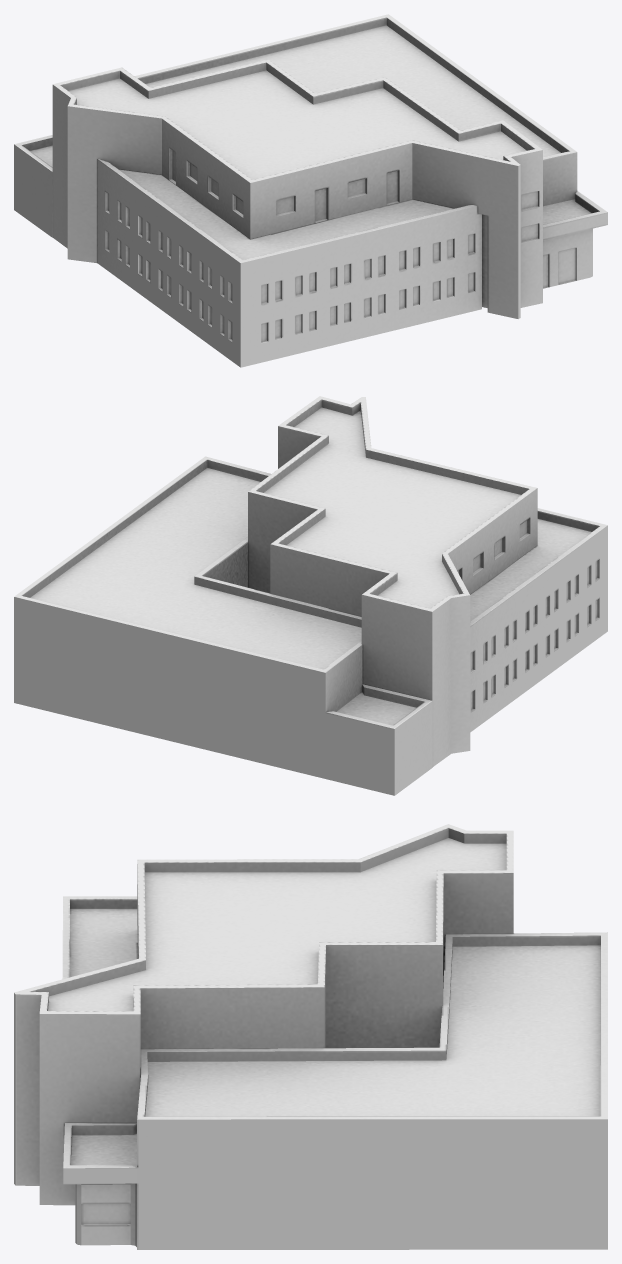
Rendered from kavala_building04.glb.
3 views of the same model, one above another, from view 1: azimuth 30°, elevation 25°; view 2: azimuth 150°, elevation 25°; view 3: azimuth 270°, elevation 25° (orthographic). The views are drawn at different scales.
Visible parts, largest first — view 1: building_v003; view 2: building_v003; view 3: building_v003.
Boxes of the visible parts, box(x1,y1,x2,y2) form: building_v003: box(14, 14, 607, 367); building_v003: box(14, 396, 607, 795); building_v003: box(14, 824, 607, 1249).
Size of the model in its own units: 2.36 by 0.896 by 2.52.
Materials: 1 (1 with a texture image).
